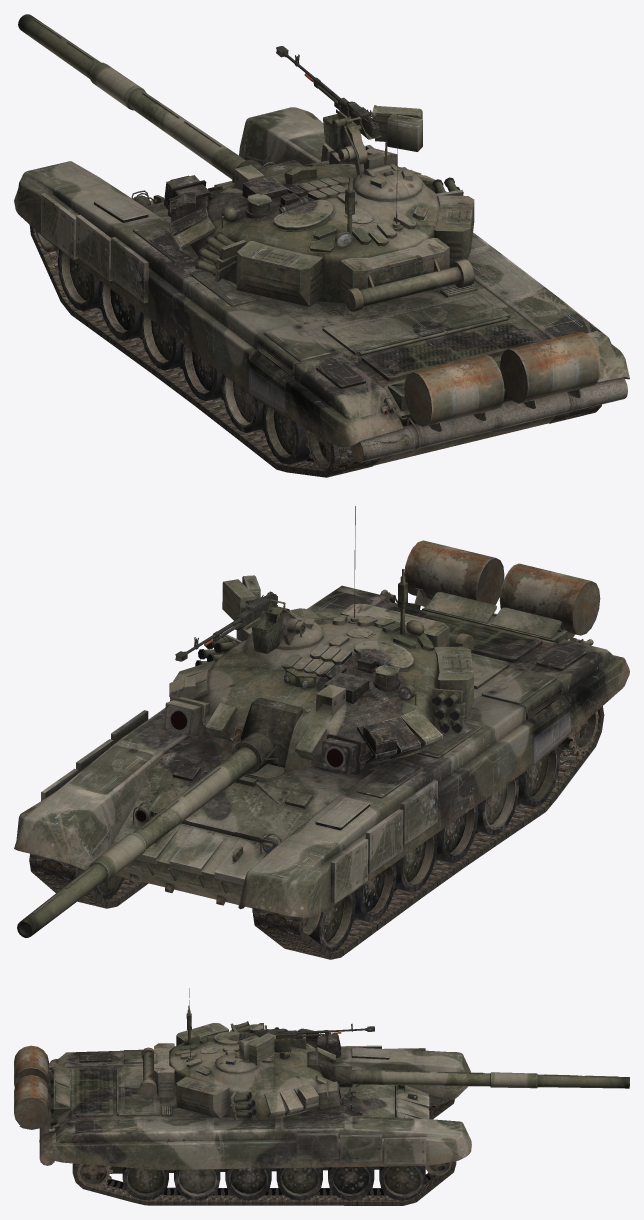
3 views of the same model, one above another, from view 1: azimuth 30°, elevation 25°; view 2: azimuth 150°, elevation 25°; view 3: azimuth 270°, elevation 25° (orthographic). The views are drawn at different scales.
Visible parts, largest first — view 1: Main_Body_2, Turret, Main_Body, gun; view 2: Main_Body_2, Turret, Main_Body, gun; view 3: Main_Body_2, Turret, Main_Body, gun.
Part boxes in pixels (box(x1,y1,x2,y2)): Main_Body_2: box(14, 107, 629, 477); Turret: box(18, 14, 474, 311); Main_Body: box(131, 162, 555, 465); gun: box(276, 46, 381, 138); Main_Body_2: box(14, 540, 629, 959); Turret: box(17, 506, 473, 937); Main_Body: box(109, 592, 567, 912); gun: box(175, 591, 277, 661); Main_Body_2: box(14, 1045, 471, 1205); Turret: box(140, 988, 629, 1120); Main_Body: box(51, 1062, 429, 1173); gun: box(252, 1023, 374, 1043).
Bounding box in the file's own units: 348 × 331 × 1006.
Materials: 4 (4 with a texture image).
